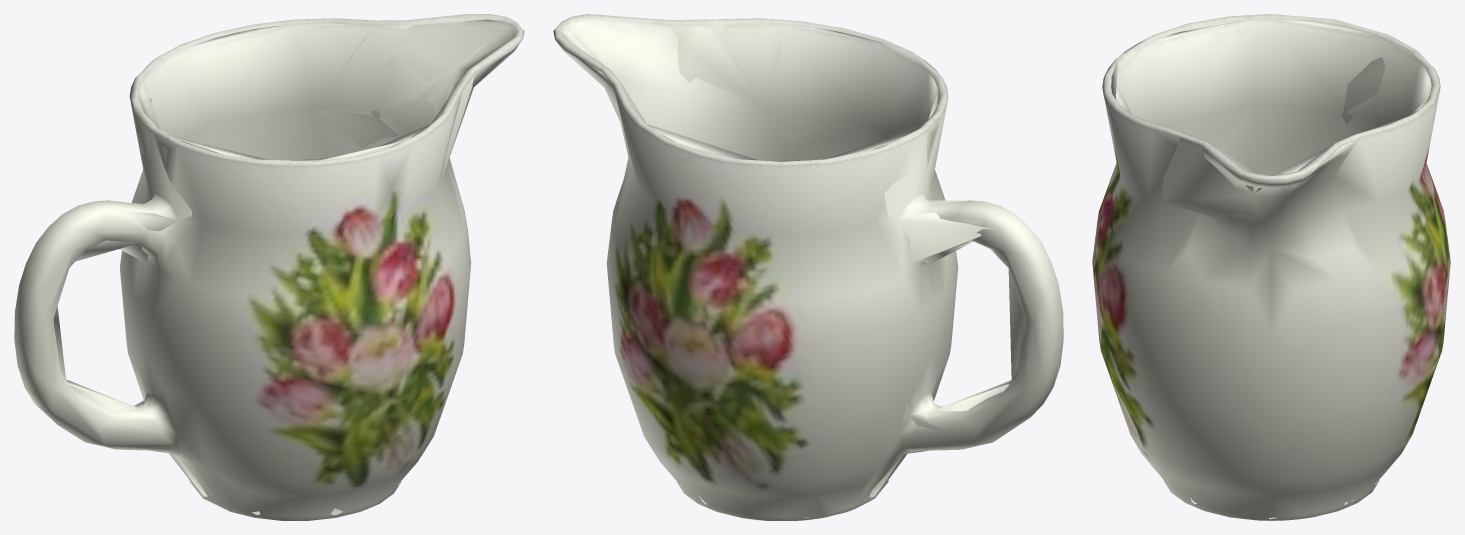
Rendered from jug_01.glb.
The picture shows the model from 3 angles, left to right: view 1: azimuth 30°, elevation 25°; view 2: azimuth 150°, elevation 25°; view 3: azimuth 270°, elevation 25°; orthographic projection. The views are drawn at different scales.
Parts seen in each view (by area): view 1: jug_01, jug_01_lo; view 2: jug_01, jug_01_lo; view 3: jug_01, jug_01_lo.
Boxes of the visible parts, x1,y1,x2,y2 form: jug_01: (14, 14, 524, 520); jug_01_lo: (54, 19, 515, 515); jug_01: (553, 14, 1063, 520); jug_01_lo: (562, 18, 1024, 517); jug_01: (1092, 14, 1450, 520); jug_01_lo: (1111, 19, 1431, 519).
Size of the model in its own units: 0.275 by 0.2113 by 0.1675.
Materials: 1 (1 with a texture image).
